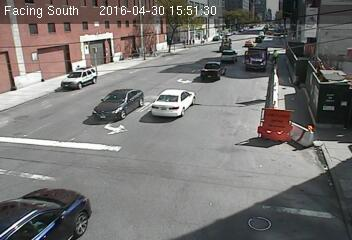neg: (56, 190, 89, 234), (102, 44, 130, 83), (39, 193, 59, 220), (96, 99, 114, 122), (151, 100, 168, 122)
pos: (270, 47, 283, 65), (145, 44, 154, 56)
